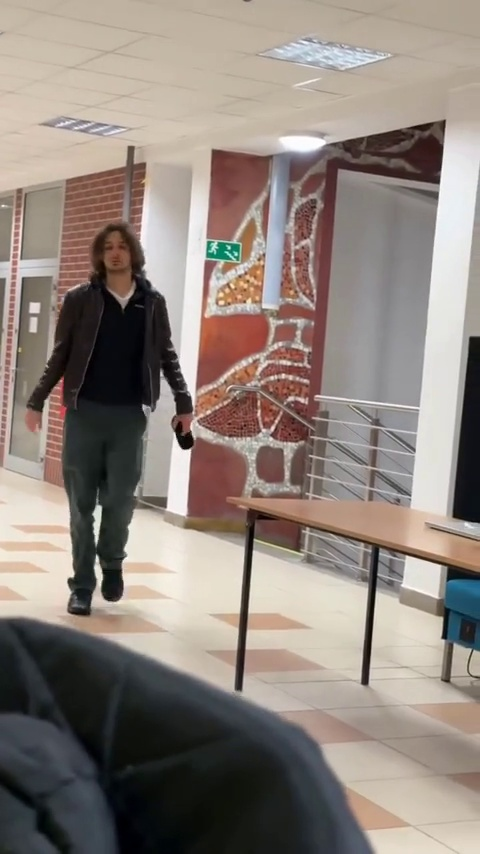no vest: (46, 223, 196, 615)
